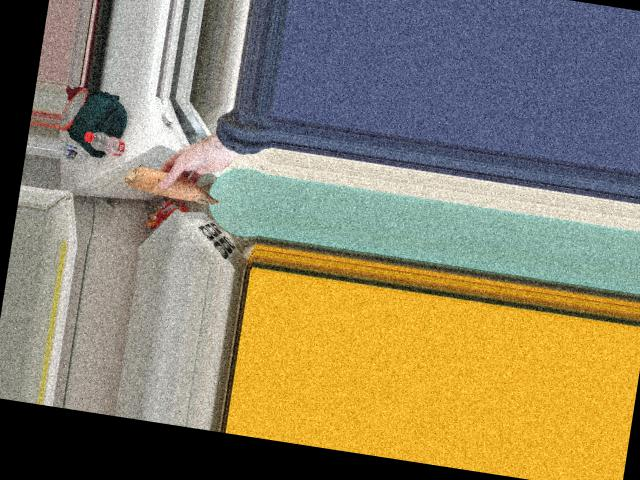sweet_potato: (124, 163, 218, 203)
